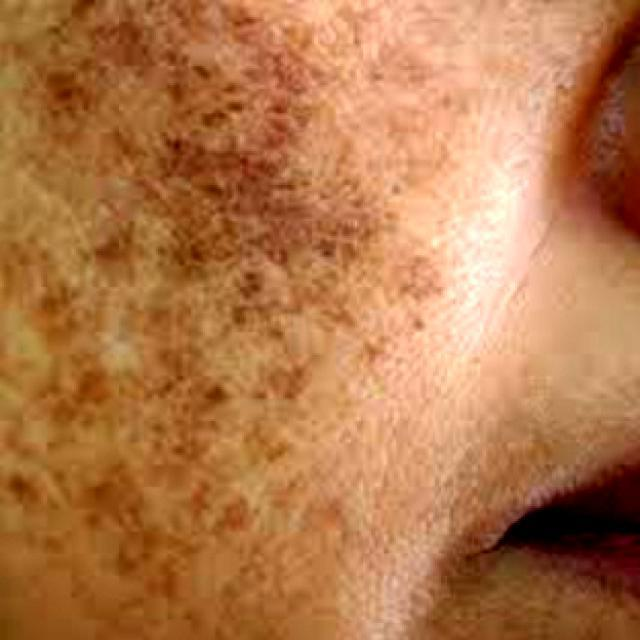Melasma: (0, 11, 555, 640)
